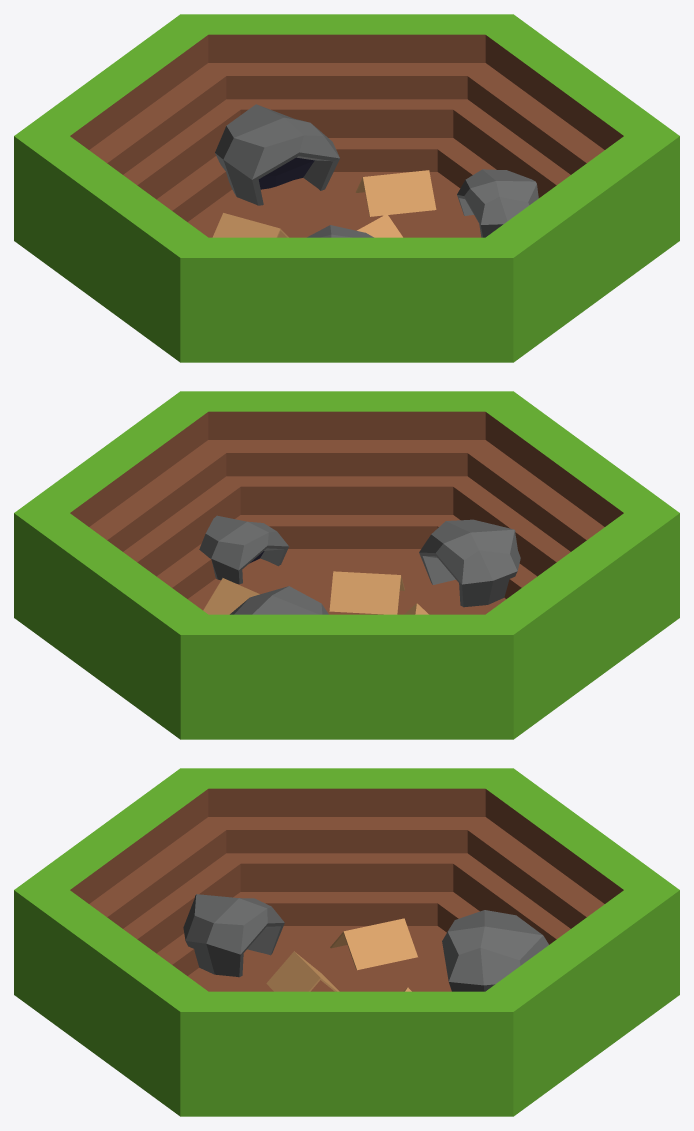
File: DigSite.fbx
The picture shows the model from 3 angles, top to bottom: view 1: azimuth 30°, elevation 25°; view 2: azimuth 150°, elevation 25°; view 3: azimuth 270°, elevation 25°; orthographic projection.
Parts seen in each view (by area): view 1: DigSite; view 2: DigSite; view 3: DigSite.
Part boxes in pixels (x1,y1,x2,y2): DigSite: (14,14,679,362); DigSite: (14,391,679,739); DigSite: (14,768,679,1116).
Size of the model in its own units: 0.9994 by 0.213 by 1.15.
